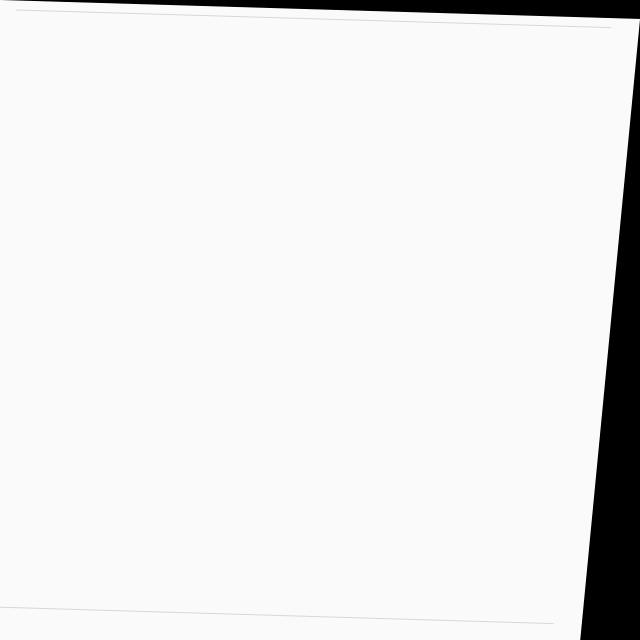qr_code: (0, 10, 611, 619)
